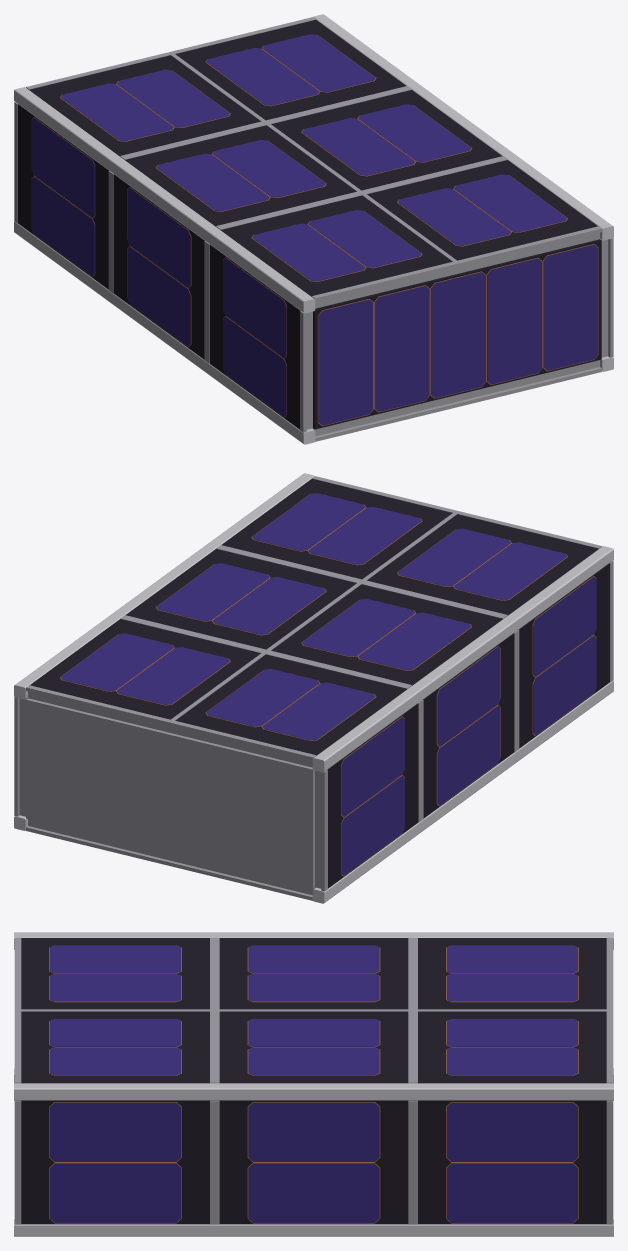
The model's file is CDS_6U_nasa_style.obj.
The picture shows the model from 3 angles, top to bottom: view 1: azimuth 30°, elevation 25°; view 2: azimuth 150°, elevation 25°; view 3: azimuth 270°, elevation 25°; orthographic projection. The views are drawn at different scales.
Parts seen in each view (by area): view 1: solar_panel_pZ_cells, structure_band_pY, solar_panel_mX_z2_cells, solar_panel_mX_z1_cells, solar_panel_mX_z3_cells, solar_panel_pY_z1_x1_cells, solar_panel_pY_z1_x2_cells, solar_panel_pY_z2_x1_cells, solar_panel_pY_z3_x1_cells, solar_panel_pY_z3_x2_cells, solar_panel_pY_z2_x2_cells, rail_mX_pY (+17 smaller); view 2: structure_endplate_mZ, structure_band_pY, solar_panel_mX_z2_cells, solar_panel_mX_z1_cells, solar_panel_mX_z3_cells, solar_panel_pY_z1_x1_cells, solar_panel_pY_z1_x2_cells, solar_panel_pY_z2_x1_cells, solar_panel_pY_z3_x1_cells, solar_panel_pY_z3_x2_cells, solar_panel_pY_z2_x2_cells, rail_mX_pY (+15 smaller); view 3: solar_panel_pX_z1_cells, solar_panel_pX_z3_cells, solar_panel_pX_z2_cells, rail_pX_pY, solar_panel_pX_z2_substrate, rail_pX_mY, solar_panel_pX_z1_substrate, solar_panel_pX_z3_substrate, solar_panel_pY_z2_x2_cells, solar_panel_pY_z1_x2_cells, solar_panel_pY_z3_x2_cells, solar_panel_pY_z1_x1_cells (+18 smaller).
Boxes of the visible parts, x1,y1,x2,y2 form: solar_panel_pZ_cells: (318, 244, 598, 425); structure_band_pY: (26, 17, 601, 301); solar_panel_mX_z2_cells: (127, 188, 190, 346); solar_panel_mX_z1_cells: (31, 118, 94, 276); solar_panel_mX_z3_cells: (223, 258, 286, 416); solar_panel_pY_z1_x1_cells: (206, 34, 375, 105); solar_panel_pY_z1_x2_cells: (60, 69, 229, 141); solar_panel_pY_z2_x1_cells: (302, 104, 471, 175); solar_panel_pY_z3_x1_cells: (397, 174, 567, 245); solar_panel_pY_z3_x2_cells: (252, 210, 421, 281); solar_panel_pY_z2_x2_cells: (156, 140, 325, 211); rail_mX_pY: (14, 87, 315, 313); structure_endplate_mZ: (26, 698, 314, 888); structure_band_pY: (26, 476, 601, 760); solar_panel_mX_z2_cells: (437, 647, 500, 805); solar_panel_mX_z1_cells: (341, 717, 404, 875); solar_panel_mX_z3_cells: (533, 577, 596, 735); solar_panel_pY_z1_x1_cells: (60, 633, 230, 704); solar_panel_pY_z1_x2_cells: (206, 669, 375, 740); solar_panel_pY_z2_x1_cells: (156, 563, 325, 634); solar_panel_pY_z3_x1_cells: (252, 493, 421, 564); solar_panel_pY_z3_x2_cells: (398, 528, 567, 600); solar_panel_pY_z2_x2_cells: (302, 599, 471, 670); rail_mX_pY: (312, 546, 613, 772); solar_panel_pX_z1_cells: (446, 1102, 577, 1222); solar_panel_pX_z3_cells: (50, 1102, 181, 1222); solar_panel_pX_z2_cells: (248, 1102, 379, 1222); rail_pX_pY: (14, 1083, 613, 1100); solar_panel_pX_z2_substrate: (219, 1100, 408, 1224); rail_pX_mY: (14, 1219, 613, 1236); solar_panel_pX_z1_substrate: (418, 1100, 606, 1224); solar_panel_pX_z3_substrate: (21, 1100, 209, 1224); solar_panel_pY_z2_x2_cells: (248, 945, 379, 1001); solar_panel_pY_z1_x2_cells: (446, 945, 577, 1001); solar_panel_pY_z3_x2_cells: (50, 945, 181, 1001); solar_panel_pY_z1_x1_cells: (446, 1019, 577, 1075).
Bounding box in the file's own units: 0.2263 × 0.1 × 0.366.
